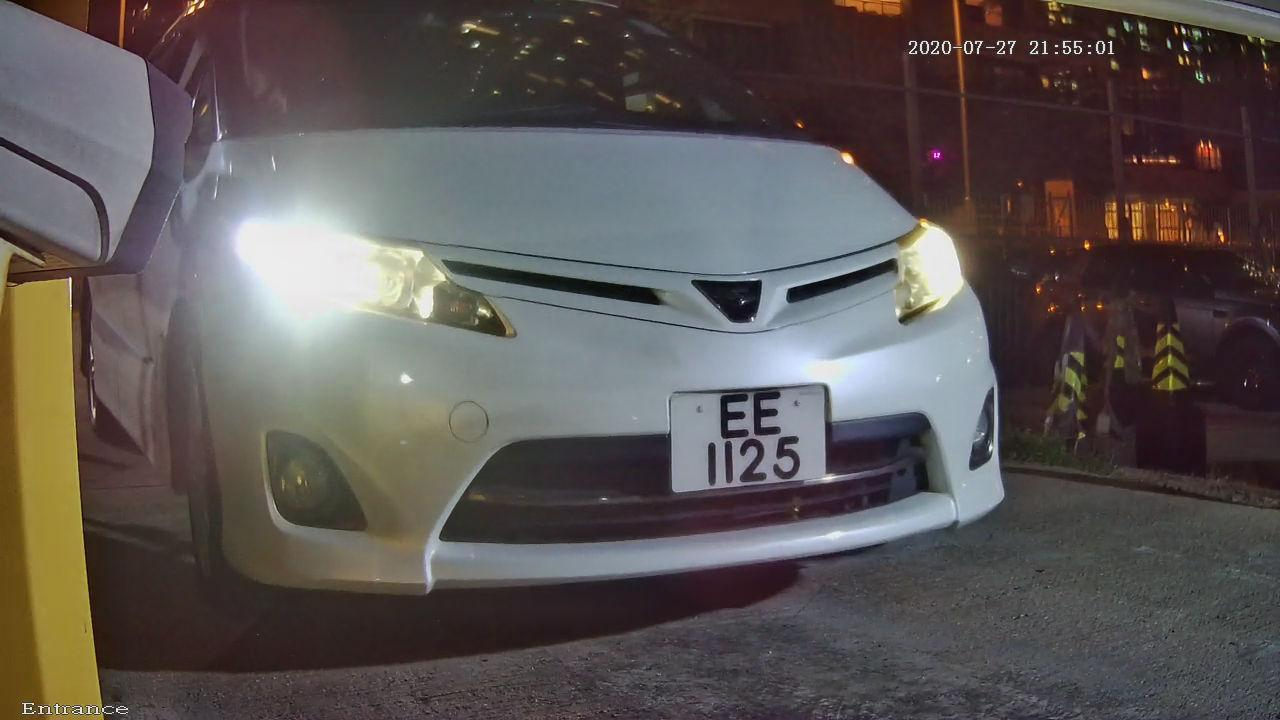privatecar: (63, 7, 1069, 666)
